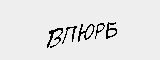Б: (103, 21, 119, 41)
В: (45, 26, 65, 49)
П: (62, 24, 76, 44)
Р: (91, 23, 105, 41)
Ю: (76, 21, 96, 45)
